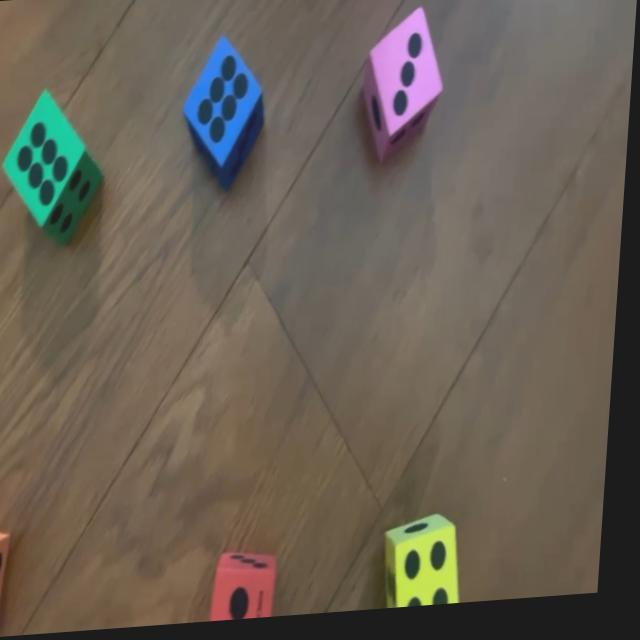cube: (0, 82, 108, 257), (181, 39, 269, 195), (218, 549, 286, 625)
